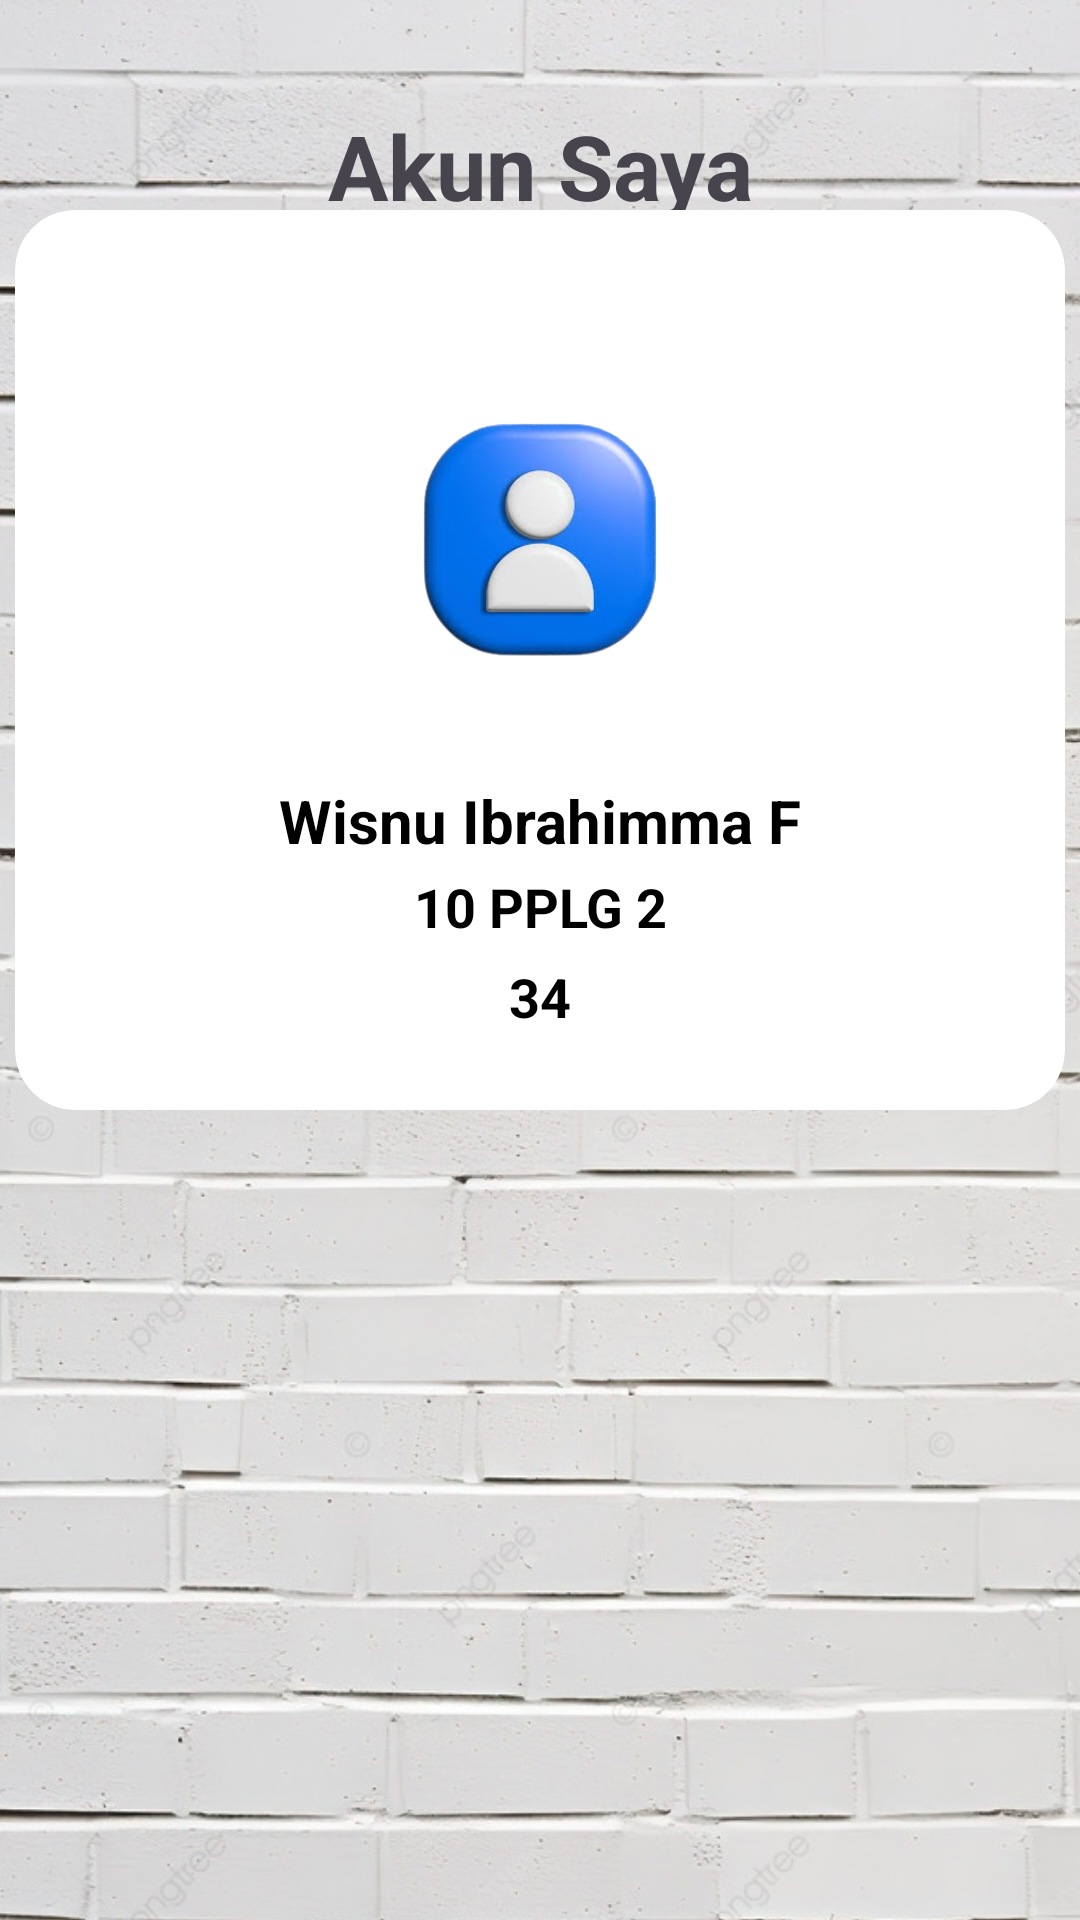

Locate icon controls on the screen. Image size 1080w x 1920h, boxes as detection(x1, y1, x2, y2).
profil: detection(424, 424, 656, 656)
